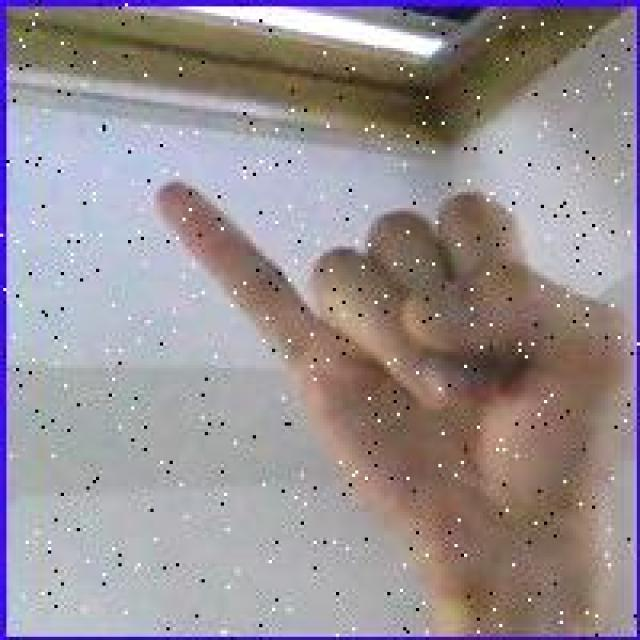J: (149, 153, 622, 582)
